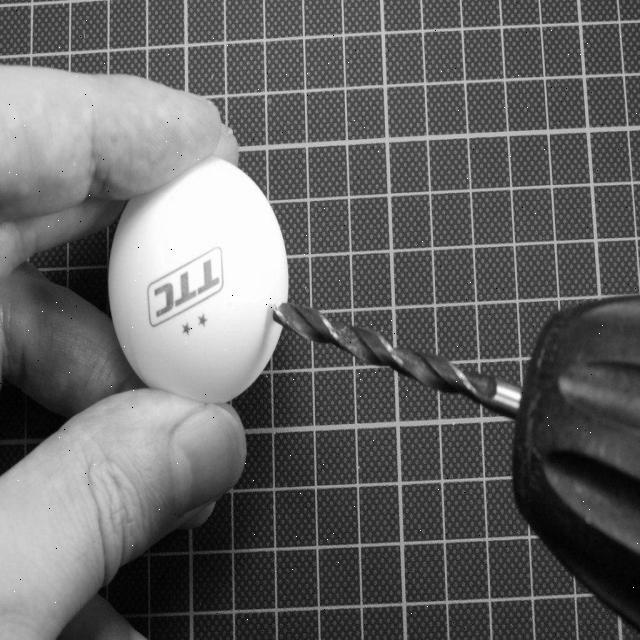ping-pong-ball: (107, 150, 291, 401)
